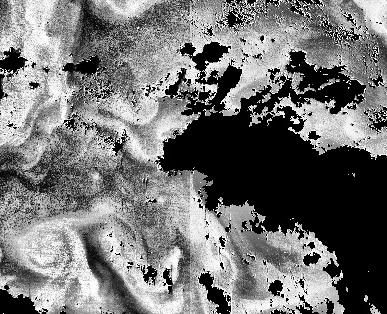CE: (15, 222, 80, 278)
